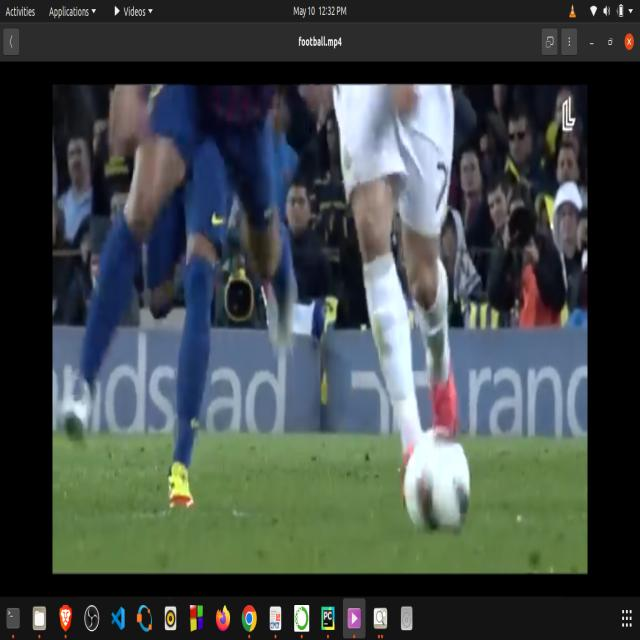ball: (403, 411, 476, 543)
